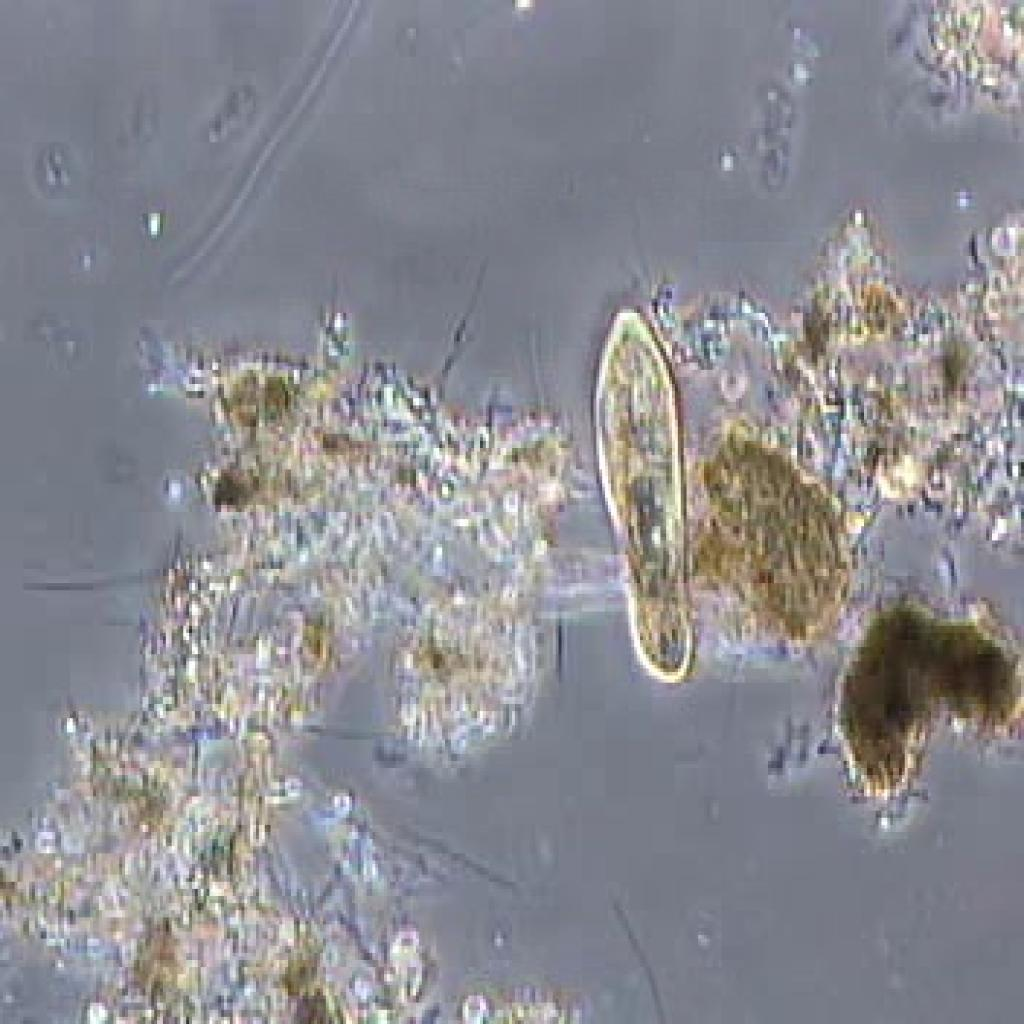Paramecium: (576, 283, 710, 695)
